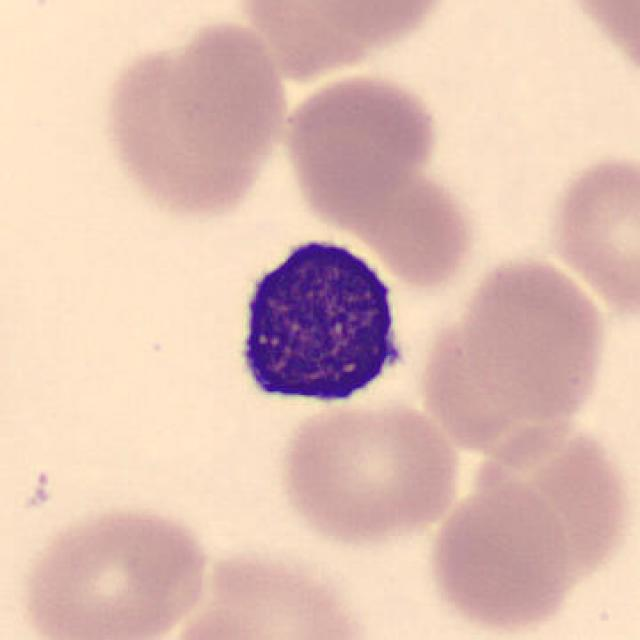Lymphocyte: (222, 224, 420, 421)
RBC: (94, 14, 292, 222), (298, 120, 488, 282), (274, 393, 466, 548), (15, 500, 213, 640), (457, 252, 610, 427), (279, 69, 443, 222), (477, 420, 622, 587), (425, 478, 576, 635), (153, 546, 375, 640), (544, 146, 638, 326), (231, 0, 458, 72), (295, 0, 459, 46), (553, 0, 640, 86)
